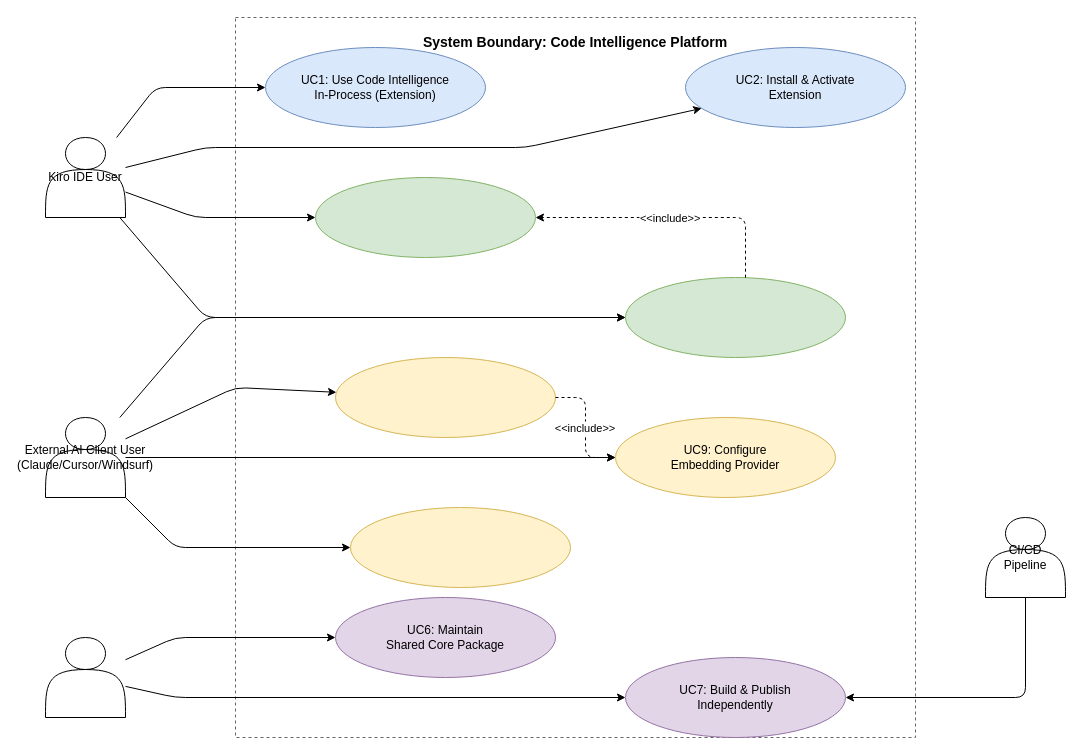
Image size: 1083x755. Some labels were removed from this diagram. Here are the shapes that lost their labels. From the top down, the box of each, then its label:
(314, 176, 536, 258): UC8: Preserve Data Across Modes
(624, 276, 846, 358): UC5: Switch Between Extension & Standalone Mode
(334, 356, 556, 438): UC3: First-Call Interactive Setup
(350, 506, 570, 588): UC4: Use Standalone MCP Server
(44, 636, 126, 718): Developer (Maintainer)
